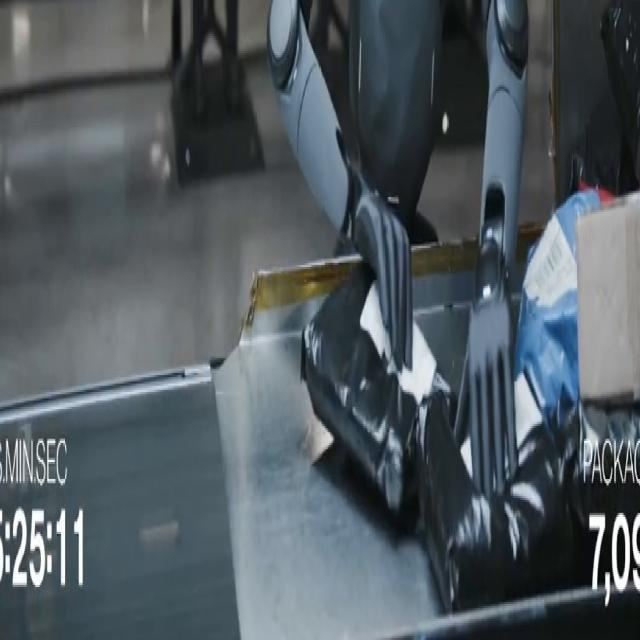package: (416, 376, 574, 612), (302, 265, 446, 512), (515, 191, 600, 423), (561, 403, 639, 584), (576, 193, 639, 404), (601, 0, 639, 178)
